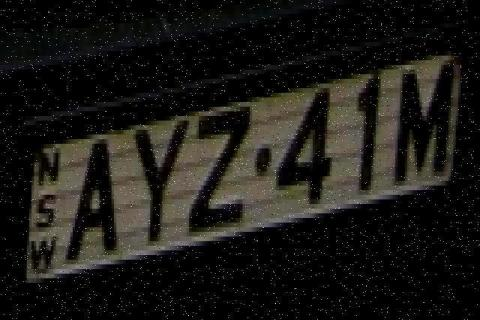LicensePlate: (8, 32, 470, 297)
